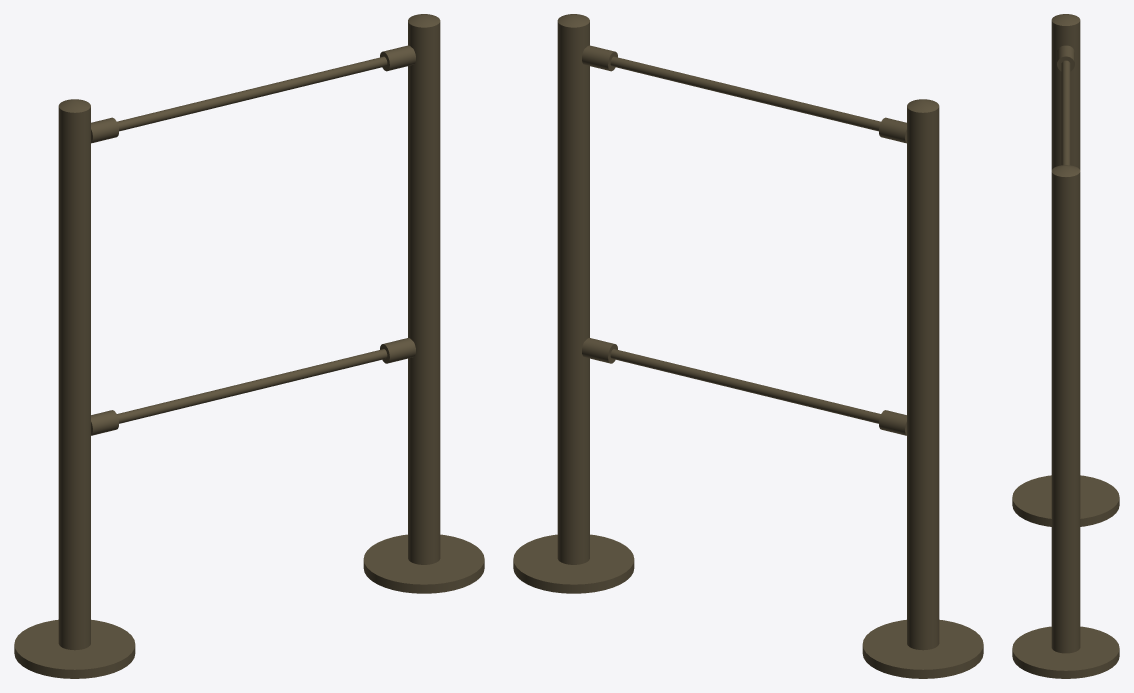
The model's file is Fence.fbx.
3 renders of one model, left to right at view 1: azimuth 30°, elevation 25°; view 2: azimuth 150°, elevation 25°; view 3: azimuth 270°, elevation 25°, orthographic. The views are drawn at different scales.
Visible parts, largest first — view 1: Fence; view 2: Fence; view 3: Fence.
Boxes of the visible parts, box(x1,y1,x2,y2) form: Fence: box(14, 14, 484, 678); Fence: box(513, 14, 983, 678); Fence: box(1012, 14, 1119, 678).
Bounding box in the file's own units: 260 × 303 × 60.
